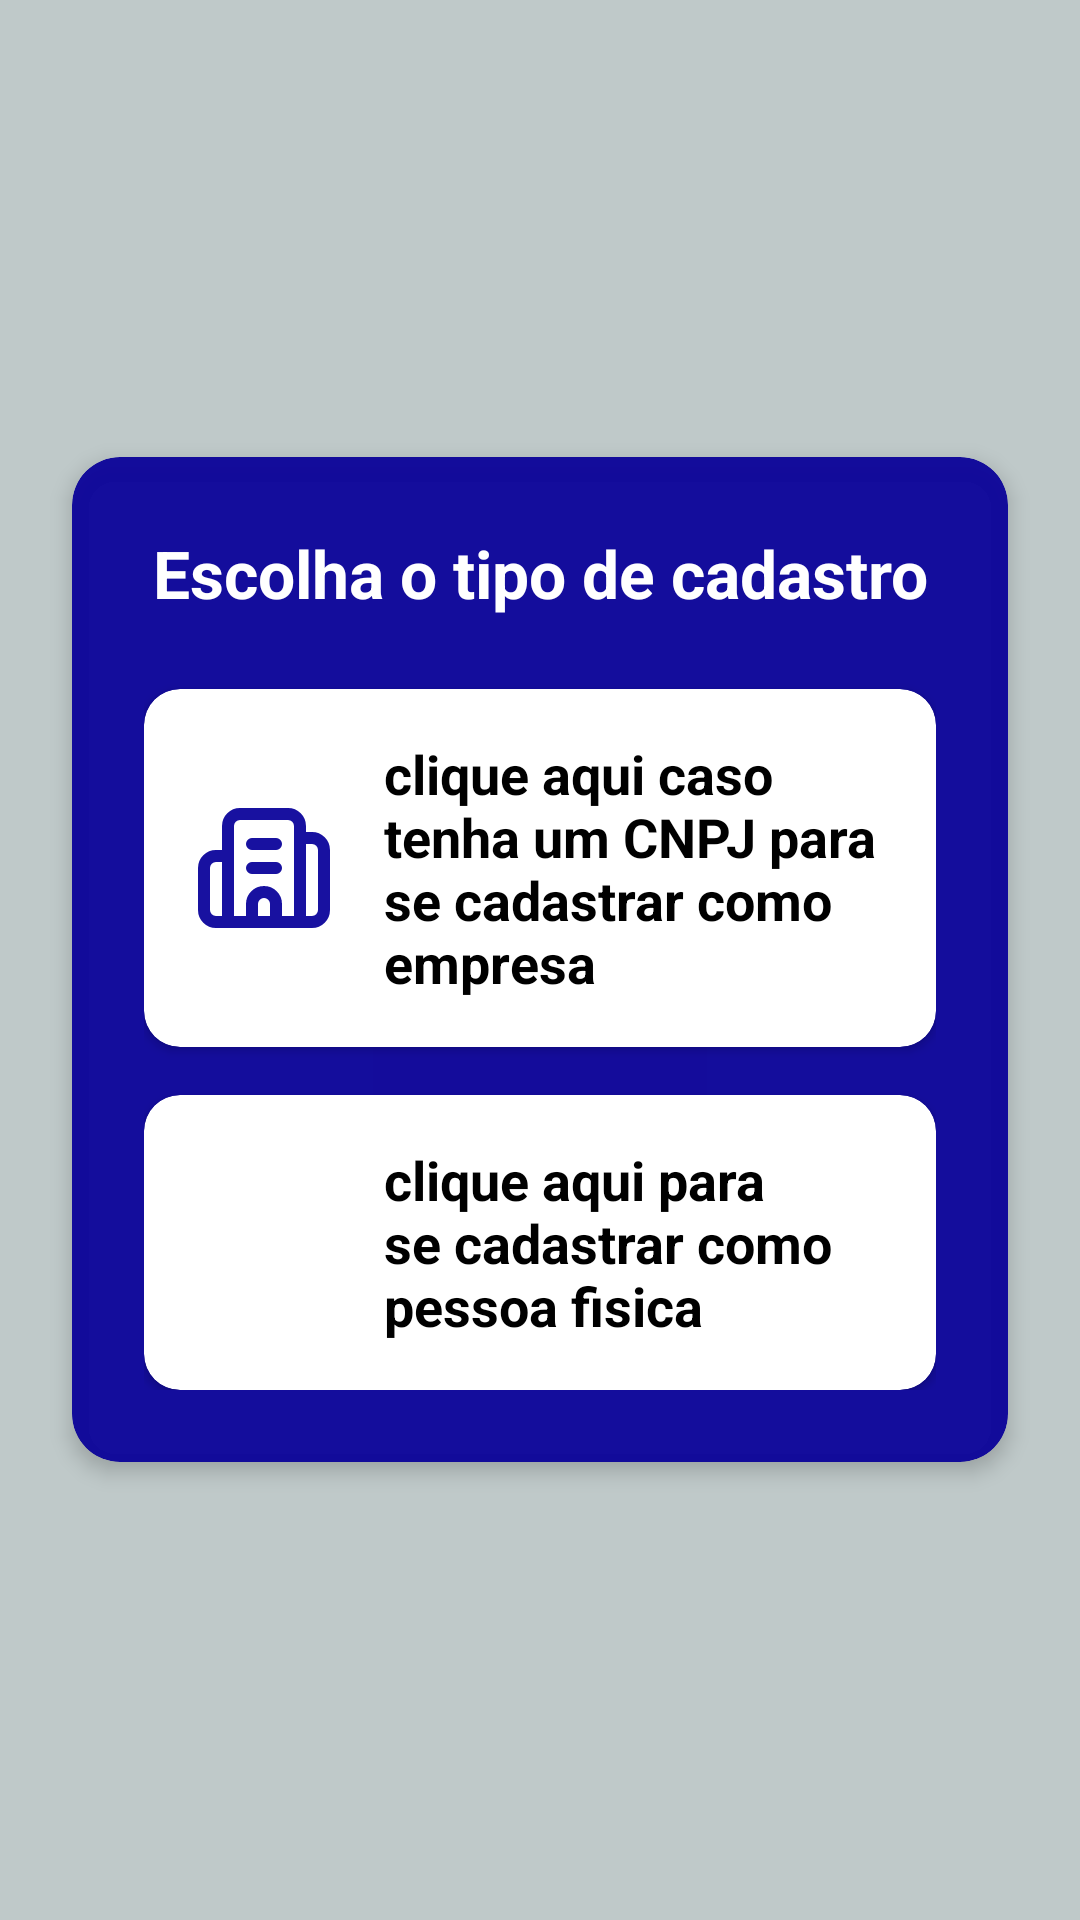

Icon click points for this 1080x1920 phone screenshot, format [x,y]:
building: [264,868]
